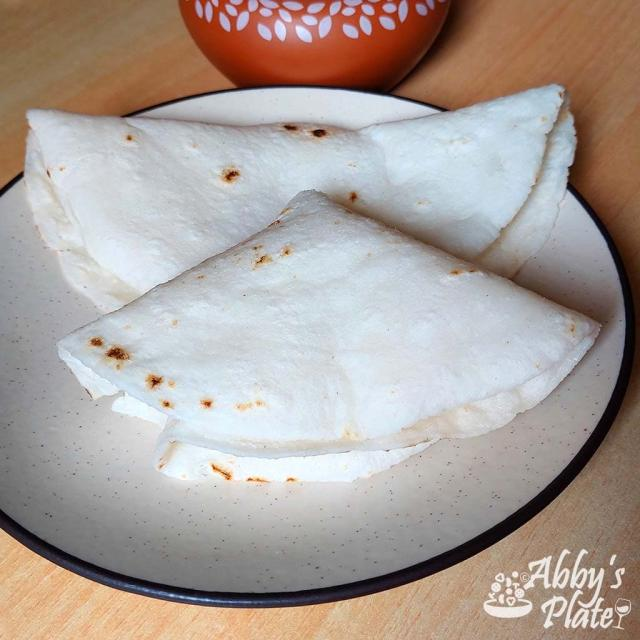RICE BHAKRI: (68, 198, 602, 491), (34, 84, 578, 321)
